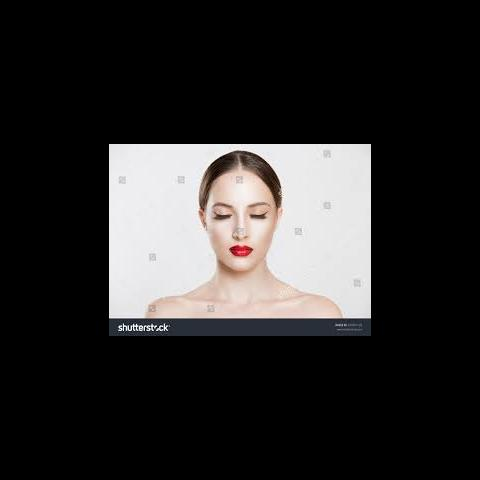closed: (207, 200, 275, 225)
